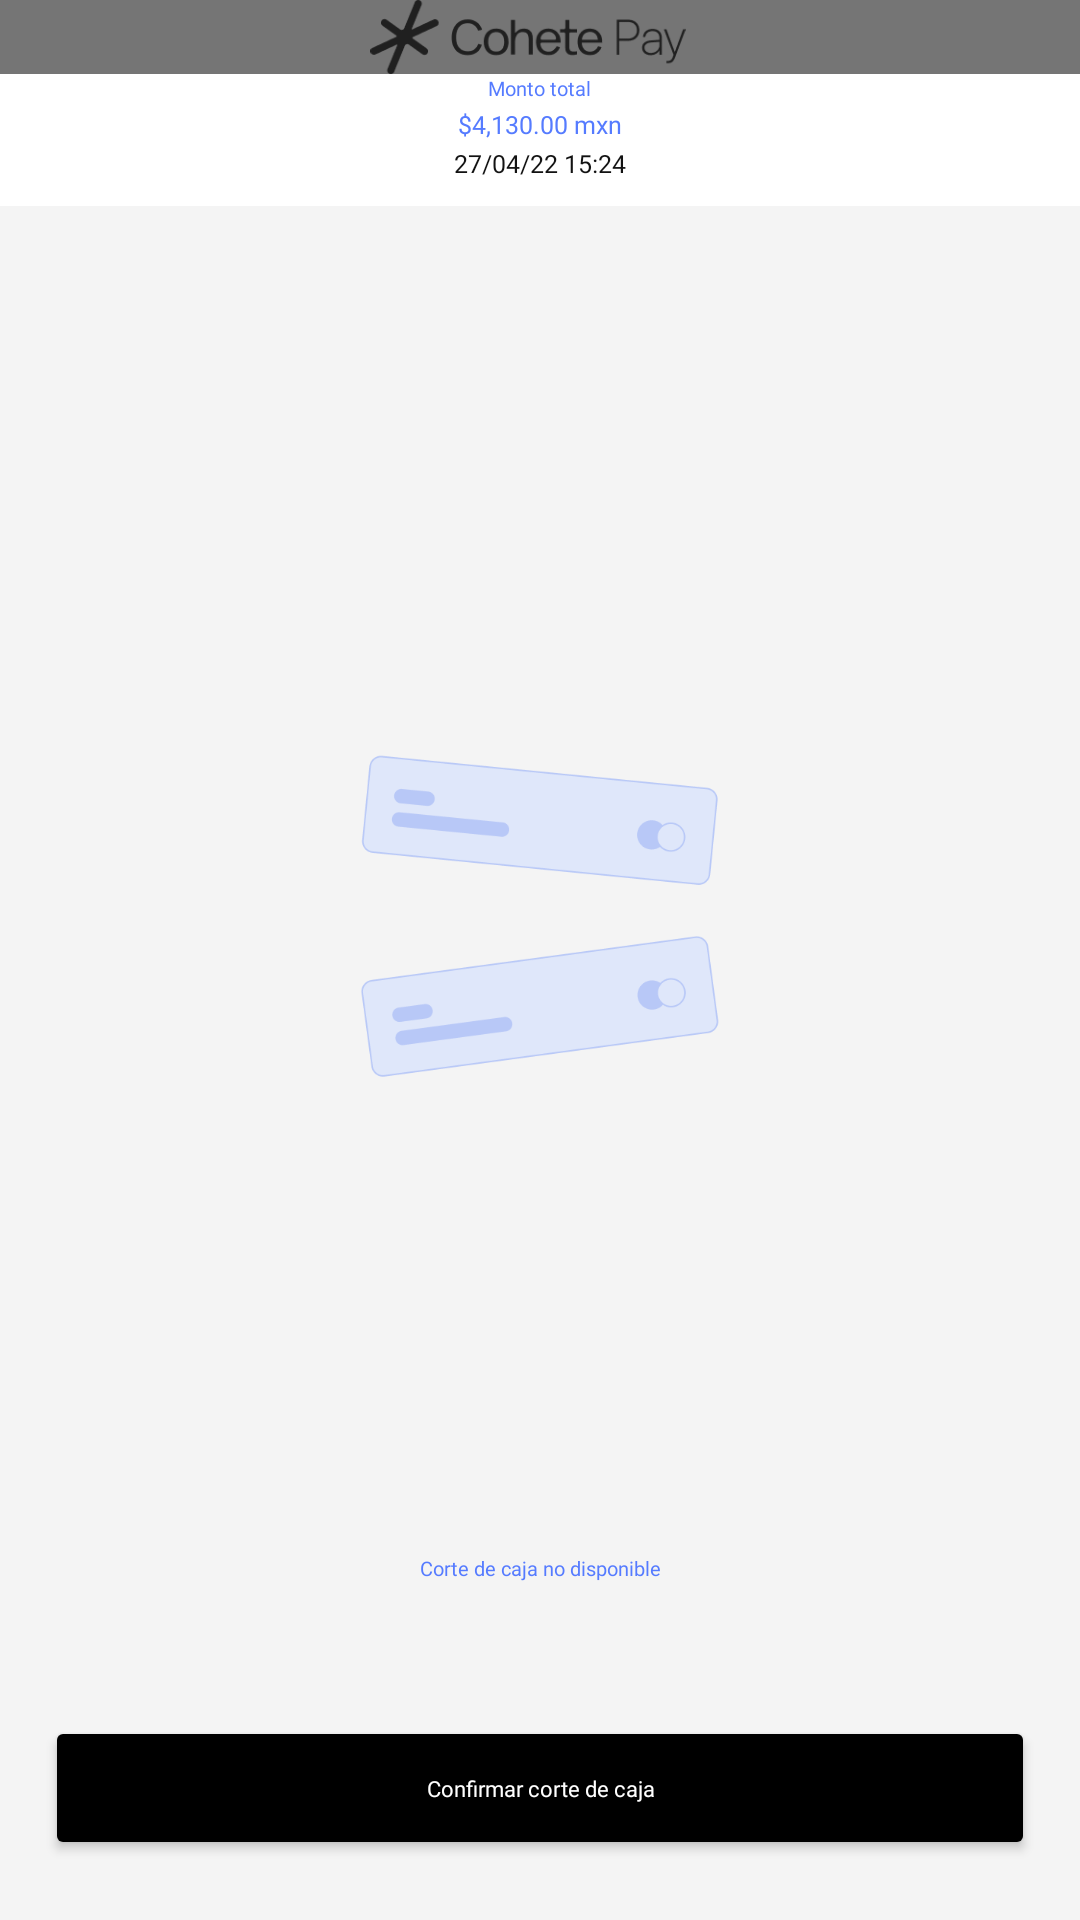

Icon bounding boxes for this 1080px×1920px phone screenshot, format (x1, y1, x2, y2):
corte caja empty: (361, 756, 718, 1077)
